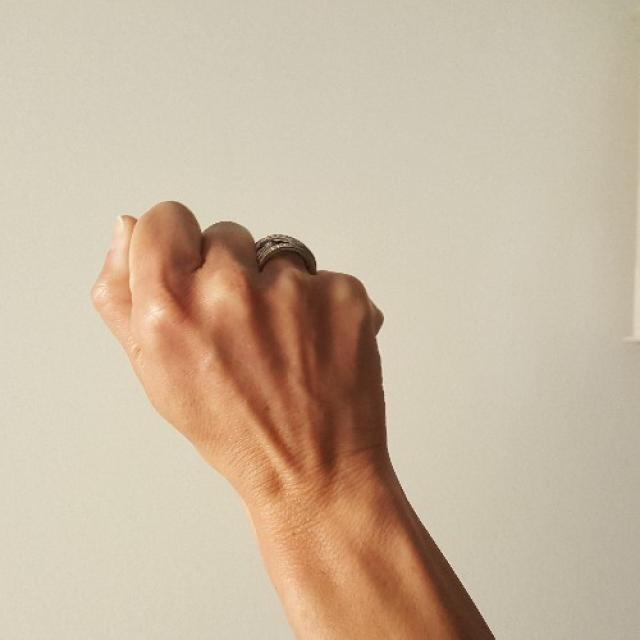fist: (83, 192, 406, 480)
